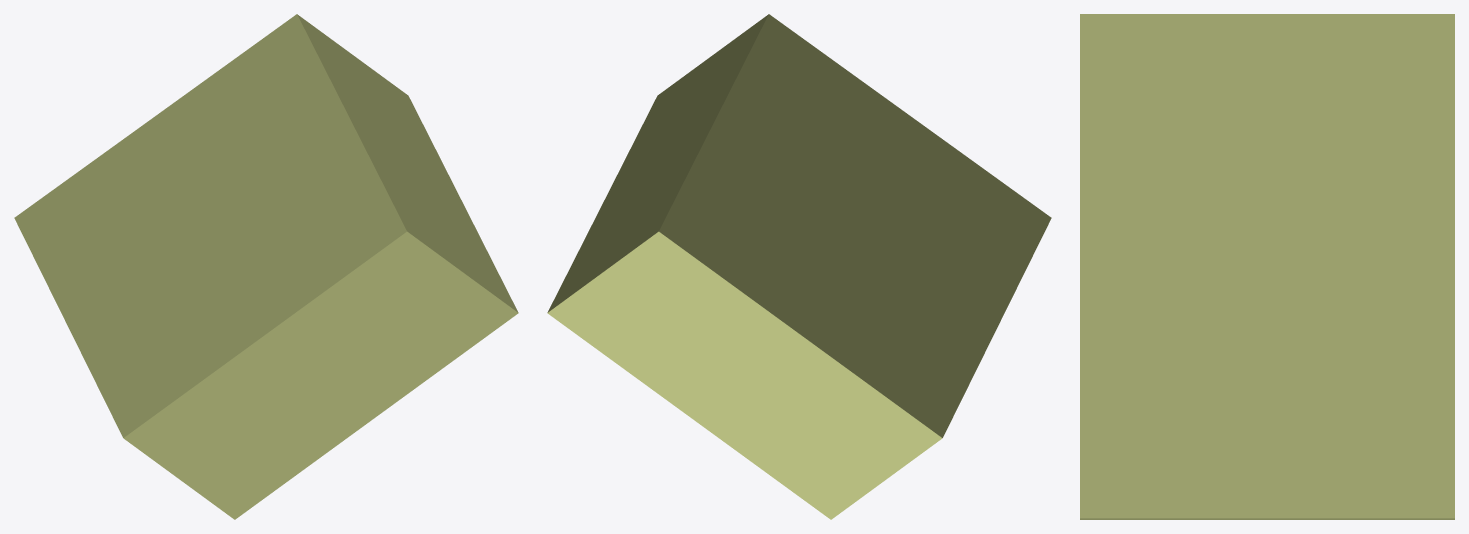
3 views of the same model, side by side, from view 1: azimuth 30°, elevation 25°; view 2: azimuth 150°, elevation 25°; view 3: azimuth 270°, elevation 25° (orthographic). The views are drawn at different scales.
Parts seen in each view (by area): view 1: 0_1_1_3_2_1_3_0_0_1_3; view 2: 0_1_1_3_2_1_3_0_0_1_3; view 3: 0_1_1_3_2_1_3_0_0_1_3.
Boxes of the visible parts, bbox=[...] form: 0_1_1_3_2_1_3_0_0_1_3: bbox=[14, 14, 518, 519]; 0_1_1_3_2_1_3_0_0_1_3: bbox=[547, 14, 1051, 519]; 0_1_1_3_2_1_3_0_0_1_3: bbox=[1080, 14, 1454, 519].
Size of the model in its own units: 12.2 by 11.33 by 6.
